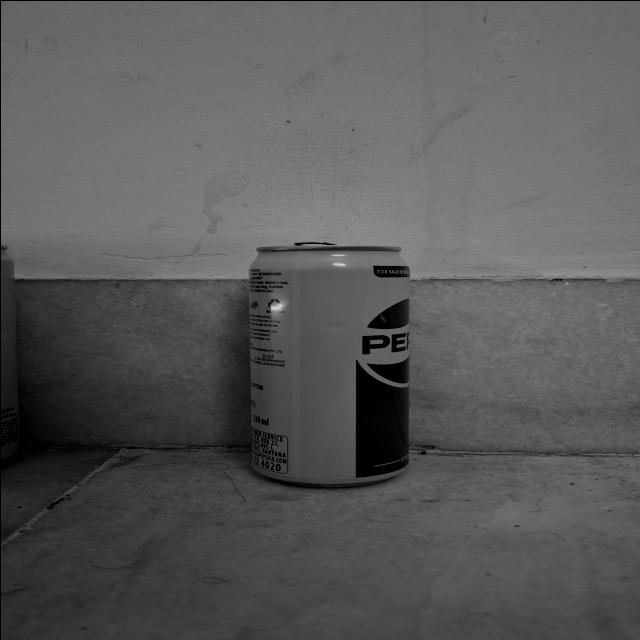Pepsi Retro: (237, 236, 422, 484)
